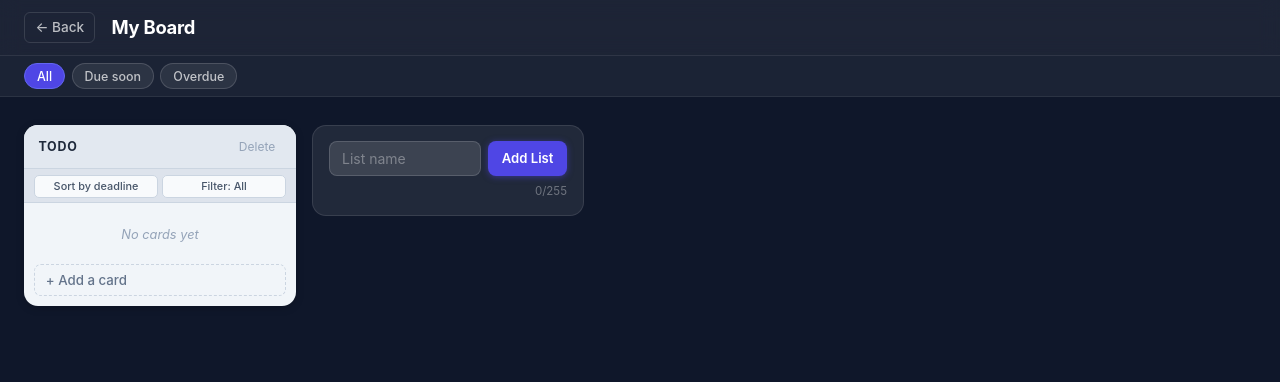
create list › shows ErrorBanner on createList failure, list unchanged (EC8)
Expected: the text "Todo" is shown, [38, 139, 78, 154]
Type "New" into the field labelled "List name". click: (405,158)
box: [329, 141, 481, 176]
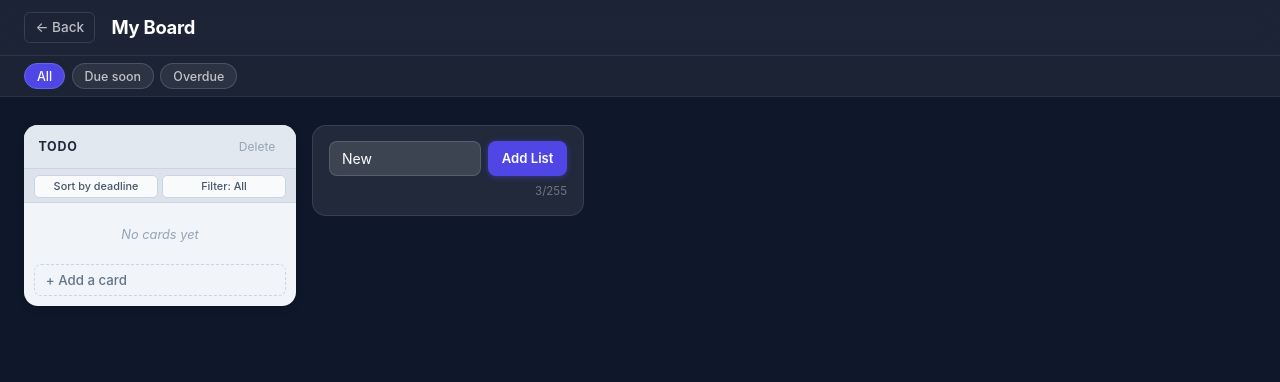
Click the button "Add List". click: (528,158)
box: [488, 141, 567, 176]
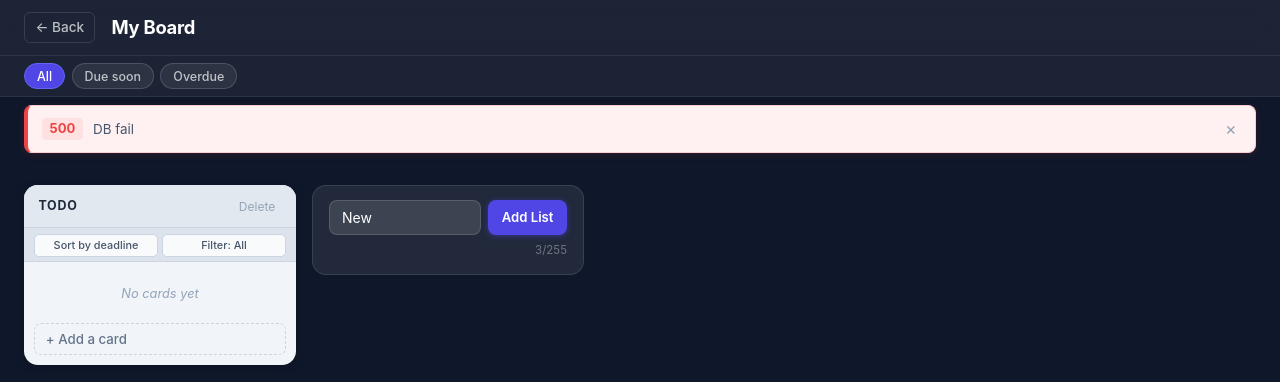
Expected: the message "500 DB fail ×" is shown, [24, 105, 1256, 153]
Expected: the text "500" is shown, [42, 118, 83, 140]
